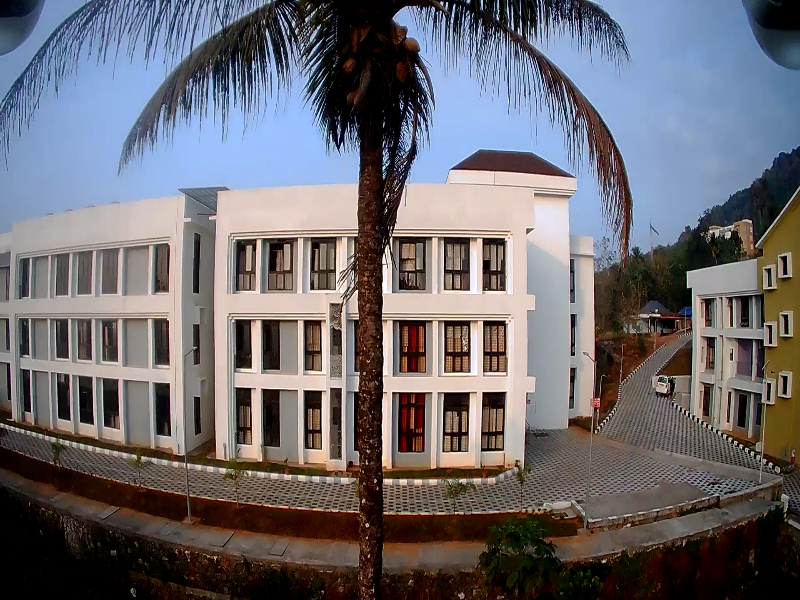coconut: (394, 60, 417, 85), (399, 33, 422, 56), (342, 56, 363, 78), (341, 89, 356, 109)
